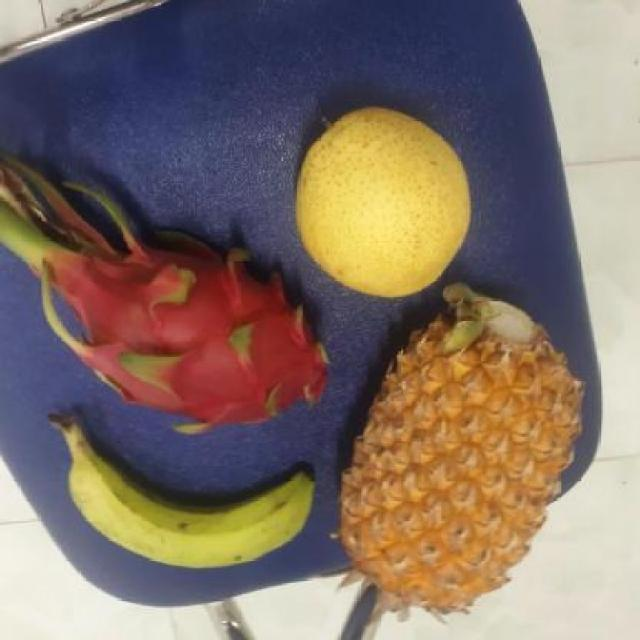banana: (60, 426, 323, 566)
dragon fruit: (43, 241, 349, 433)
pear: (294, 107, 478, 295)
pineapple: (352, 296, 592, 612)
